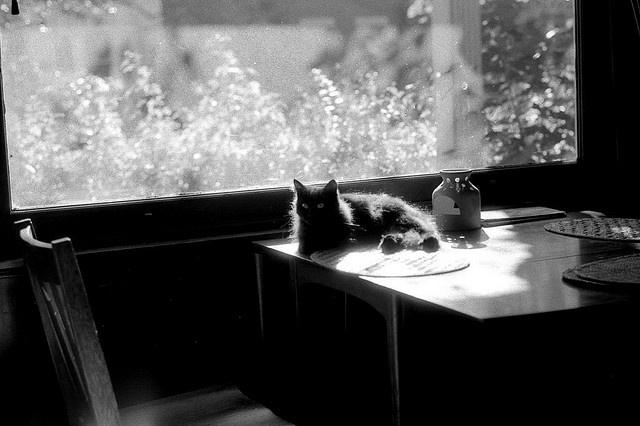Kursi: (13, 217, 297, 425)
